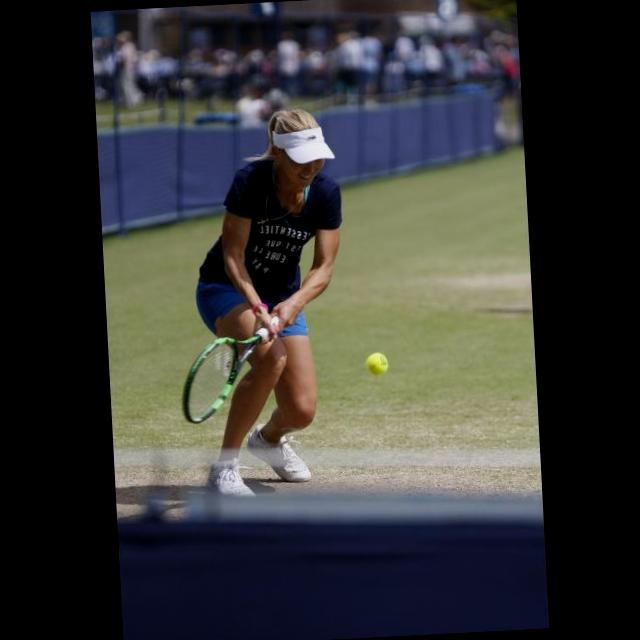Tennis Ball: (365, 352, 391, 378)
